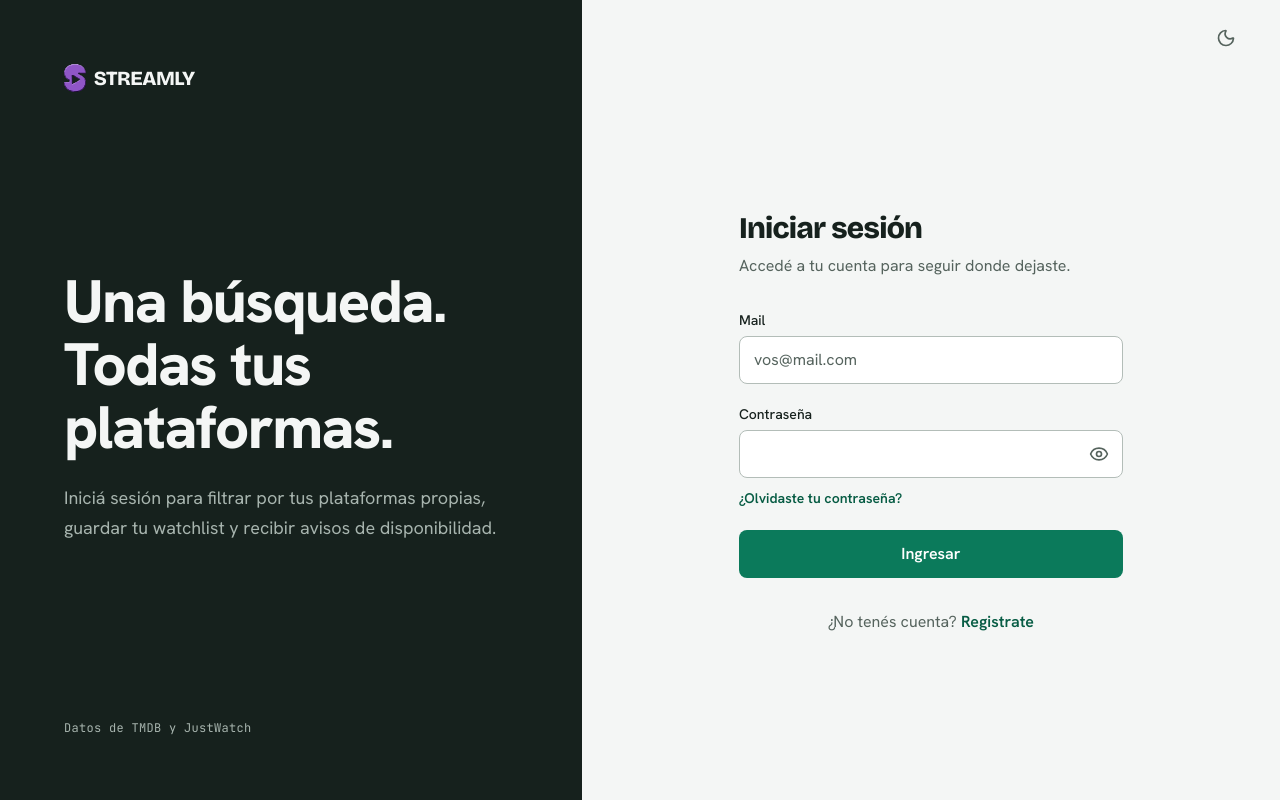
Inicio de sesión (E4HU2) › pide completar los campos antes de enviar
This screenshot has width=1280, height=800.
Click the button "Ingresar": click(931, 554) left=739, top=530, right=1123, bottom=578
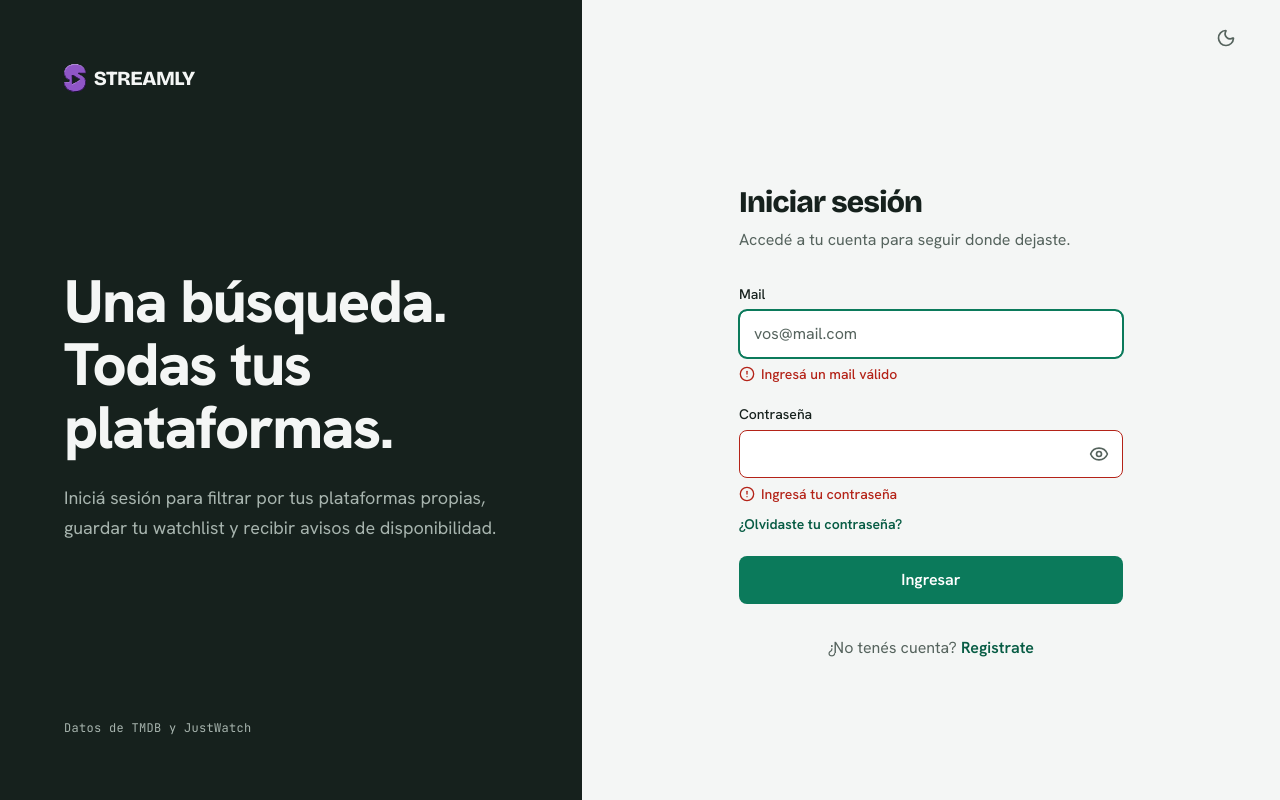
Expected: the text "Ingresá un mail válido" is shown, left=739, top=365, right=897, bottom=383
Expected: the text "Ingresá tu contraseña" is shown, left=739, top=485, right=897, bottom=503
